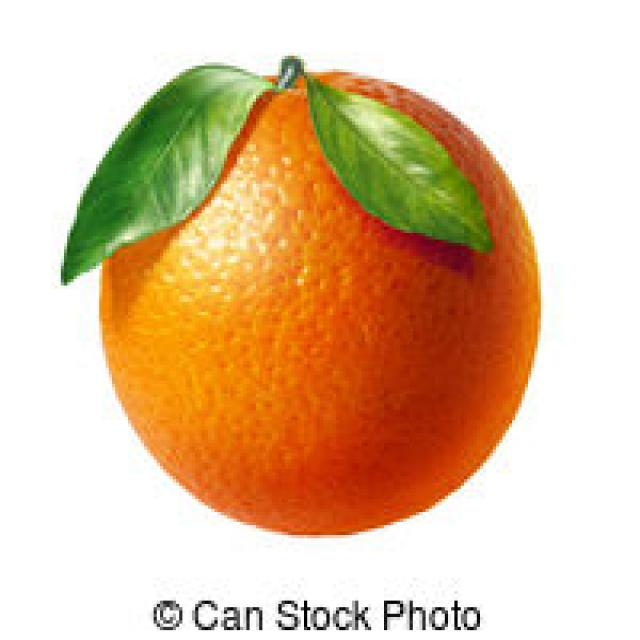orange: (59, 51, 544, 539)
